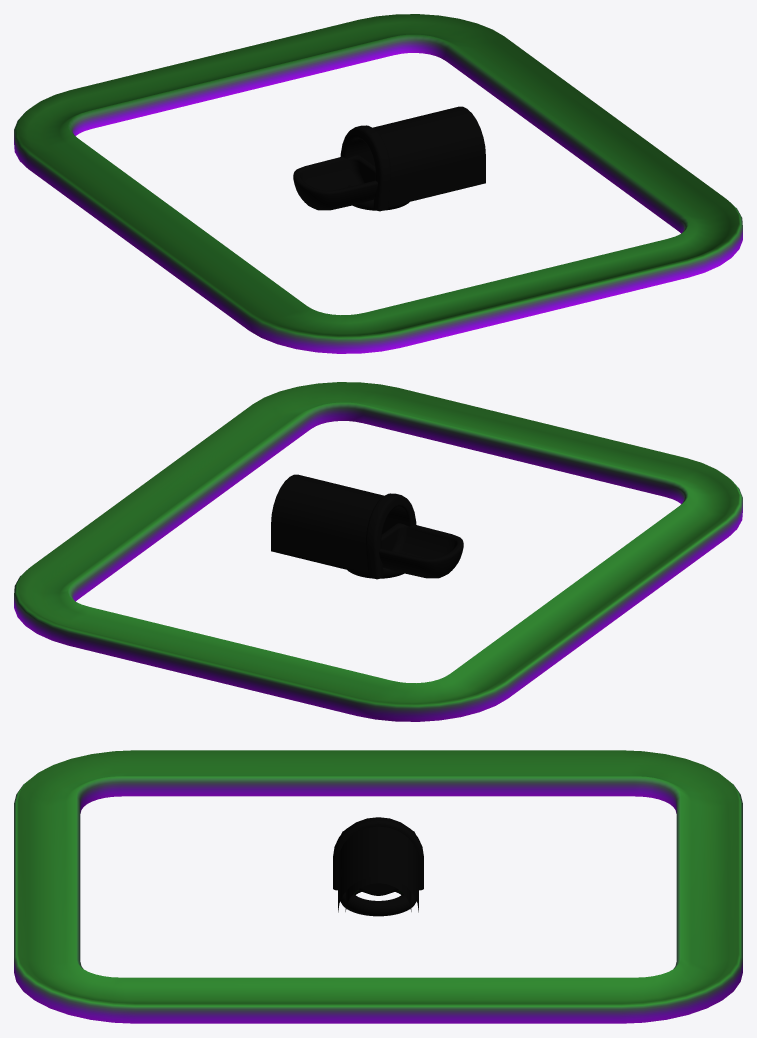
Rendered from SupAssets85.fbx.
3 views of the same model, one above another, from view 1: azimuth 30°, elevation 25°; view 2: azimuth 150°, elevation 25°; view 3: azimuth 270°, elevation 25° (orthographic). The views are drawn at different scales.
Parts seen in each view (by area): view 1: WaterBase, Tube, BuoySlot; view 2: WaterBase, Tube, BuoySlot; view 3: WaterBase, Tube, Buoy.
Part boxes in pixels (x1,y1,x2,y2): WaterBase: [14, 14, 742, 353]; Tube: [340, 106, 485, 211]; BuoySlot: [293, 155, 377, 210]; WaterBase: [14, 382, 742, 721]; Tube: [271, 474, 416, 579]; BuoySlot: [379, 523, 463, 578]; WaterBase: [14, 750, 742, 1023]; Tube: [333, 817, 423, 912]; Buoy: [340, 890, 416, 916].
Size of the model in its own units: 7.57 by 1.08 by 9.07.
